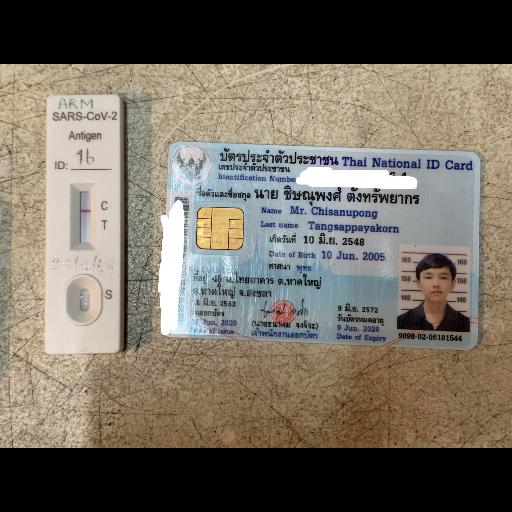Neg: (48, 94, 120, 354)
